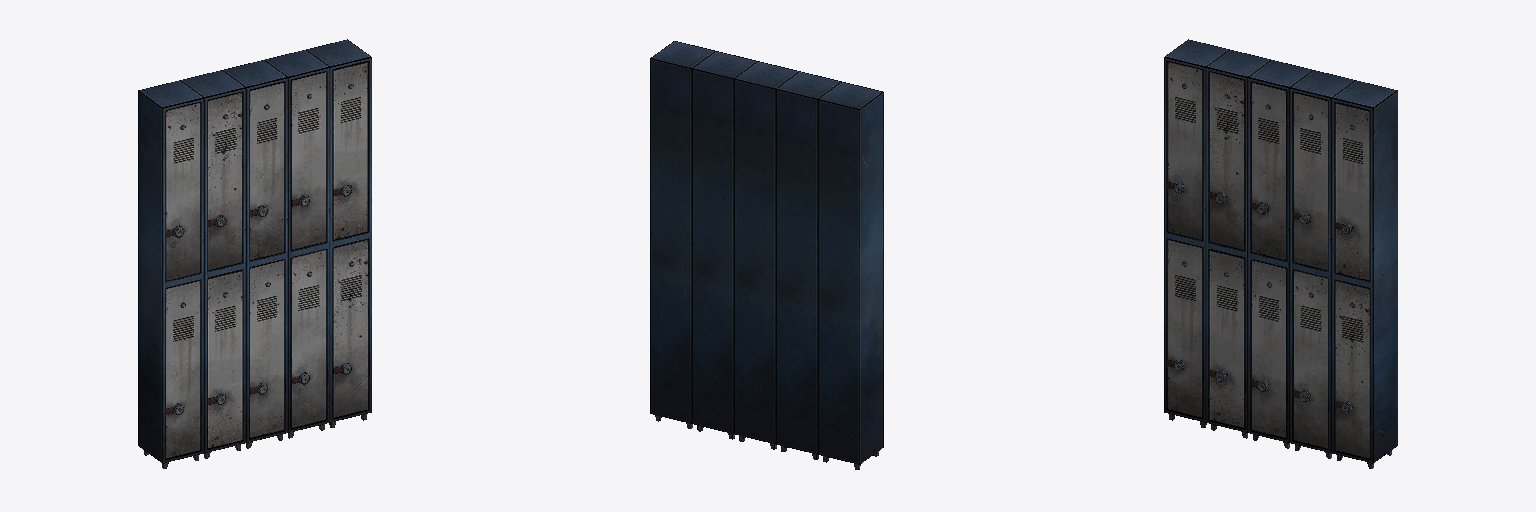
The picture shows the model from 3 angles: view 1: azimuth 30°, elevation 25°; view 2: azimuth 150°, elevation 25°; view 3: azimuth 330°, elevation 25°; orthographic projection.
Parts seen in each view (by area): view 1: Locker; view 2: Locker; view 3: Locker.
Part boxes in pixels (bbox=[...]): Locker: bbox=[138, 39, 371, 468]; Locker: bbox=[650, 41, 883, 469]; Locker: bbox=[1164, 39, 1397, 468].
Bounding box in the file's own units: 2.69 × 4.46 × 0.5774.
1 materials, 1 textured.